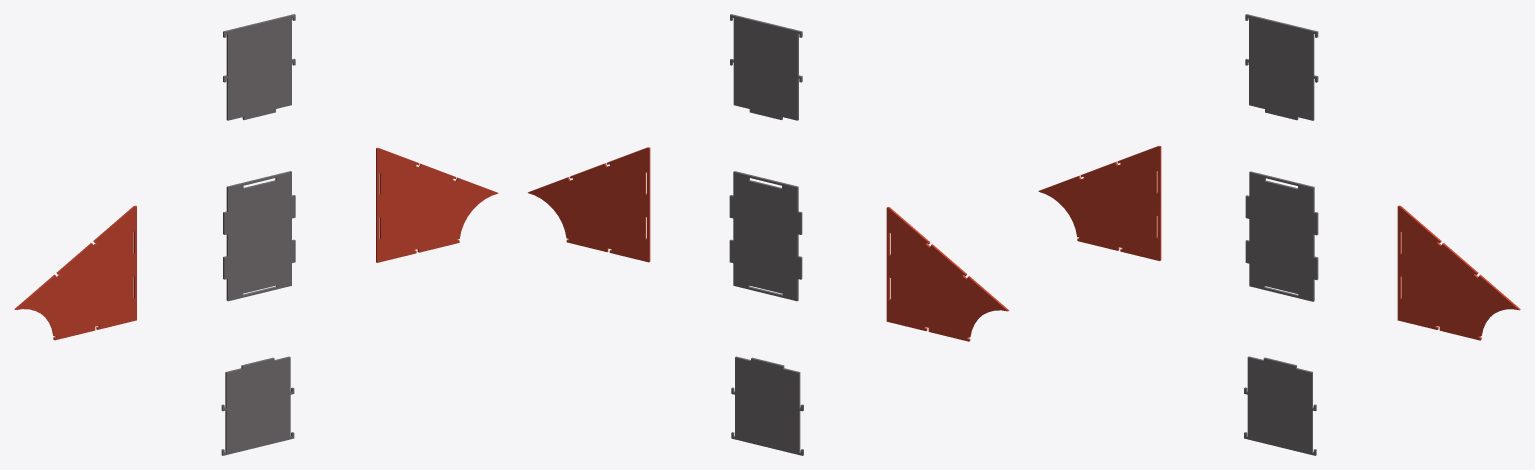
File: penha_flach.dae
3 views of the same model, side by side, from view 1: azimuth 30°, elevation 25°; view 2: azimuth 150°, elevation 25°; view 3: azimuth 330°, elevation 25° (orthographic).
Visible parts, largest first — view 1: ShapeIndexedFaceSet_001, ShapeIndexedFaceSet_002, ShapeIndexedFaceSet, ShapeIndexedFaceSet_003, ShapeIndexedFaceSet_004; view 2: ShapeIndexedFaceSet_001, ShapeIndexedFaceSet_002, ShapeIndexedFaceSet, ShapeIndexedFaceSet_003, ShapeIndexedFaceSet_004; view 3: ShapeIndexedFaceSet_002, ShapeIndexedFaceSet_001, ShapeIndexedFaceSet, ShapeIndexedFaceSet_003, ShapeIndexedFaceSet_004.
Part boxes in pixels (left/top/right/bottom): ShapeIndexedFaceSet_001: left=14, top=205, right=136, bottom=340; ShapeIndexedFaceSet_002: left=376, top=147, right=498, bottom=262; ShapeIndexedFaceSet: left=223, top=171, right=295, bottom=301; ShapeIndexedFaceSet_003: left=223, top=14, right=295, bottom=120; ShapeIndexedFaceSet_004: left=221, top=356, right=294, bottom=455; ShapeIndexedFaceSet_001: left=886, top=207, right=1009, bottom=341; ShapeIndexedFaceSet_002: left=528, top=147, right=650, bottom=262; ShapeIndexedFaceSet: left=729, top=171, right=802, bottom=301; ShapeIndexedFaceSet_003: left=730, top=14, right=802, bottom=120; ShapeIndexedFaceSet_004: left=731, top=356, right=803, bottom=455; ShapeIndexedFaceSet_002: left=1397, top=205, right=1520, bottom=340; ShapeIndexedFaceSet_001: left=1038, top=146, right=1161, bottom=260; ShapeIndexedFaceSet: left=1245, top=171, right=1318, bottom=301; ShapeIndexedFaceSet_003: left=1245, top=14, right=1318, bottom=120; ShapeIndexedFaceSet_004: left=1244, top=356, right=1316, bottom=455.
Size of the model in its own units: 0.4517 by 0.004 by 0.379.
